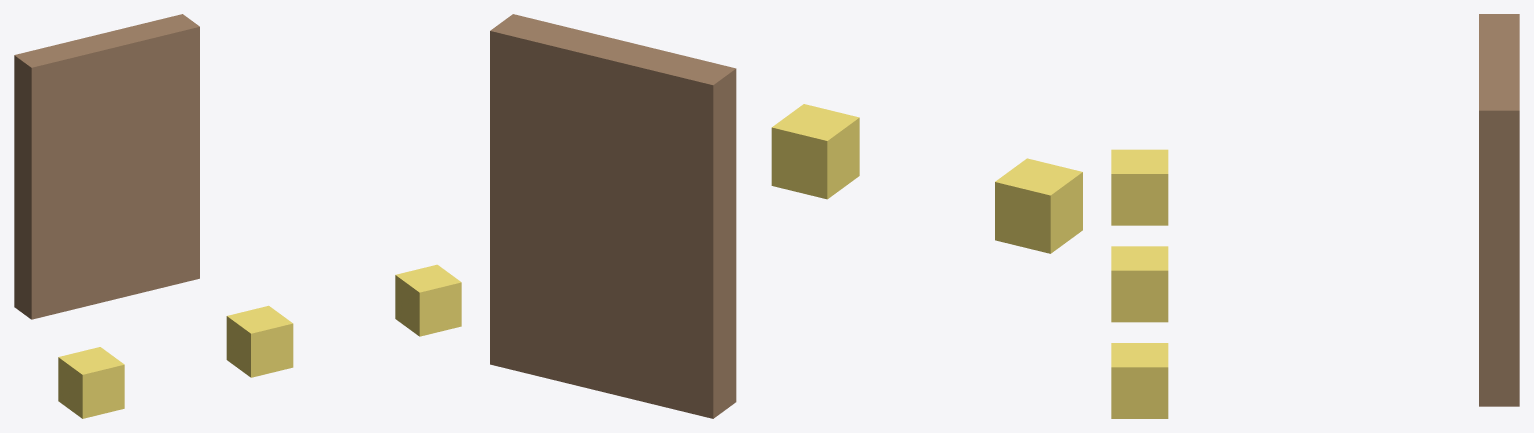
File: game.glb
3 renders of one model, left to right at view 1: azimuth 30°, elevation 25°; view 2: azimuth 150°, elevation 25°; view 3: azimuth 270°, elevation 25°, orthographic. The views are drawn at different scales.
Parts seen in each view (by area): view 1: Door, Coin 2, Coin 3, Coin 1; view 2: Door, Coin 2, Coin 1; view 3: Door, Coin 1, Coin 2, Coin 3.
Part boxes in pixels (bbox=[...]): Door: bbox=[14, 14, 199, 319]; Coin 2: bbox=[226, 305, 293, 377]; Coin 3: bbox=[395, 264, 461, 336]; Coin 1: bbox=[58, 347, 124, 418]; Door: bbox=[490, 14, 736, 418]; Coin 2: bbox=[771, 104, 859, 199]; Coin 1: bbox=[995, 158, 1082, 253]; Door: bbox=[1479, 14, 1519, 406]; Coin 1: bbox=[1111, 149, 1168, 225]; Coin 2: bbox=[1111, 246, 1168, 322]; Coin 3: bbox=[1111, 343, 1168, 418].
Bounding box in the file's own units: 3.15 × 2 × 2.5.
